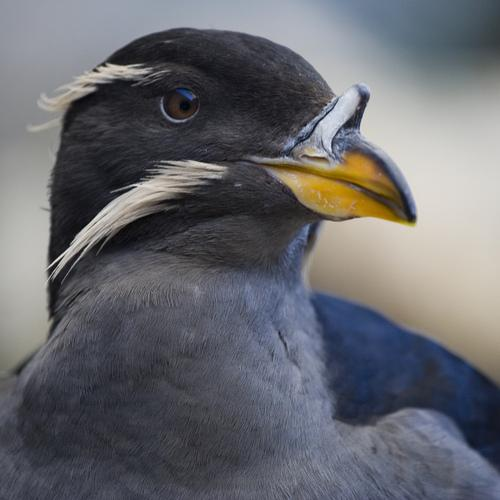008.Rhinoceros_Auklet: (1, 26, 498, 500)
